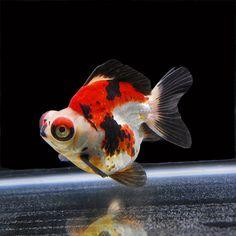goldfish: (30, 51, 200, 200)
